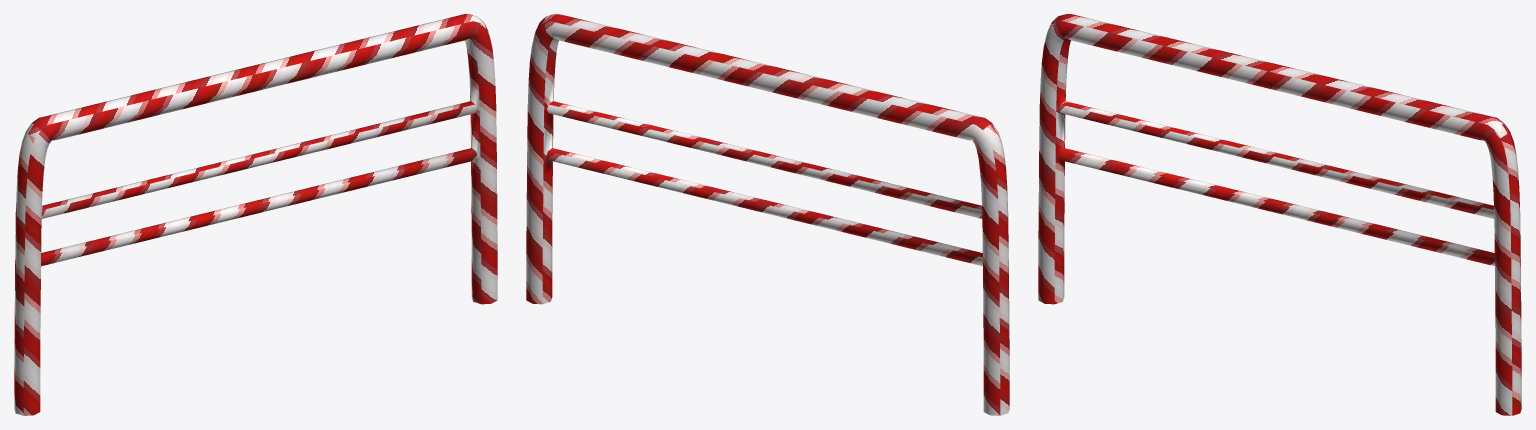
The model's file is terminal_fence.glb.
3 views of the same model, side by side, from view 1: azimuth 30°, elevation 25°; view 2: azimuth 150°, elevation 25°; view 3: azimuth 330°, elevation 25° (orthographic).
Visible parts, largest first — view 1: fence; view 2: fence; view 3: fence.
Boxes of the visible parts, x1,y1,x2,y2 form: fence: (14, 14, 497, 415); fence: (526, 14, 1009, 415); fence: (1038, 14, 1521, 415).
Size of what is drawn, in the model's own units: 2.07 by 1.19 by 0.1.
Materials: 1 (1 with a texture image).
